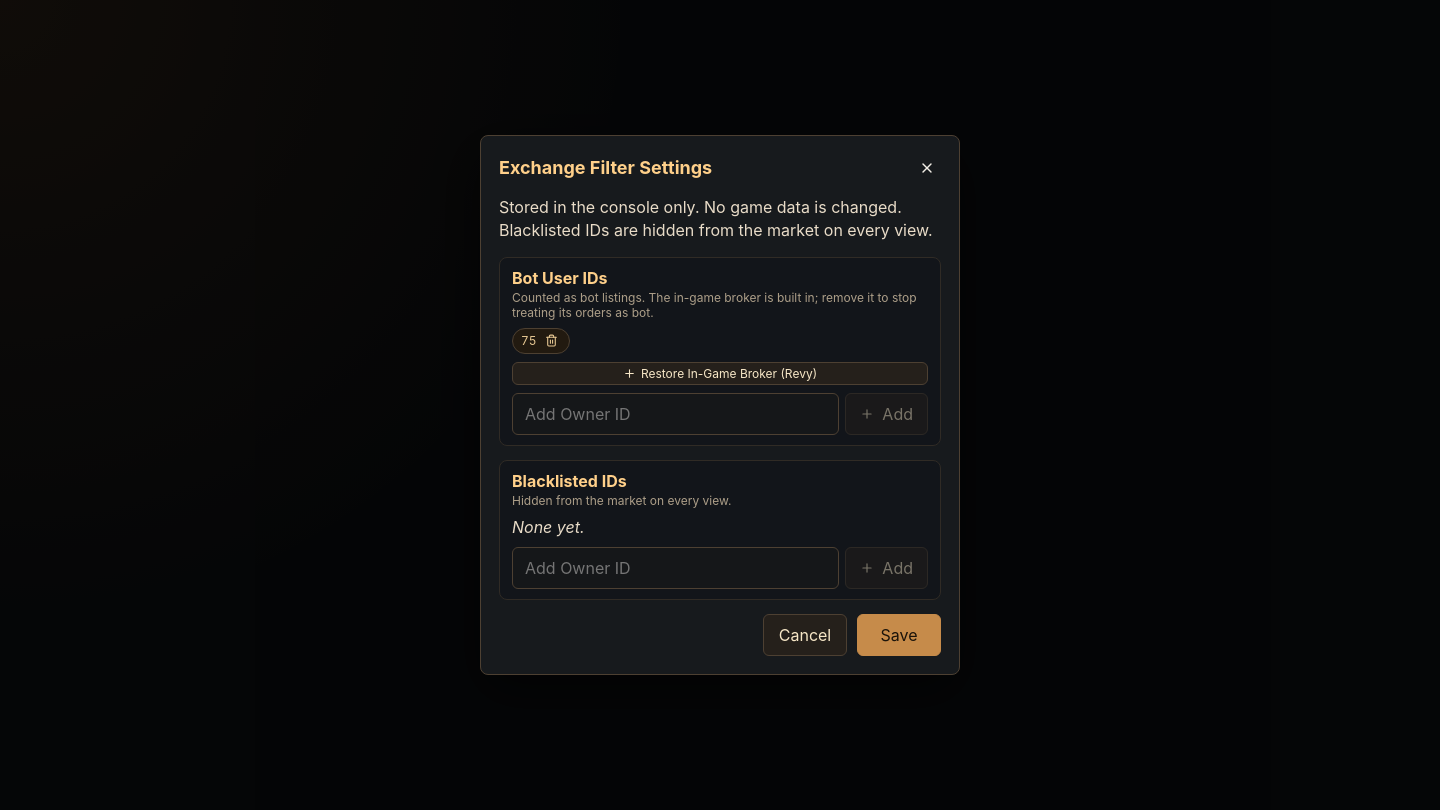
ExchangeConfigOverlay › removes a bot id chip
Check: the text "75" is shown, box [521, 333, 537, 348]
Click the button named "Remove 75": [552, 341] box [543, 332, 561, 350]
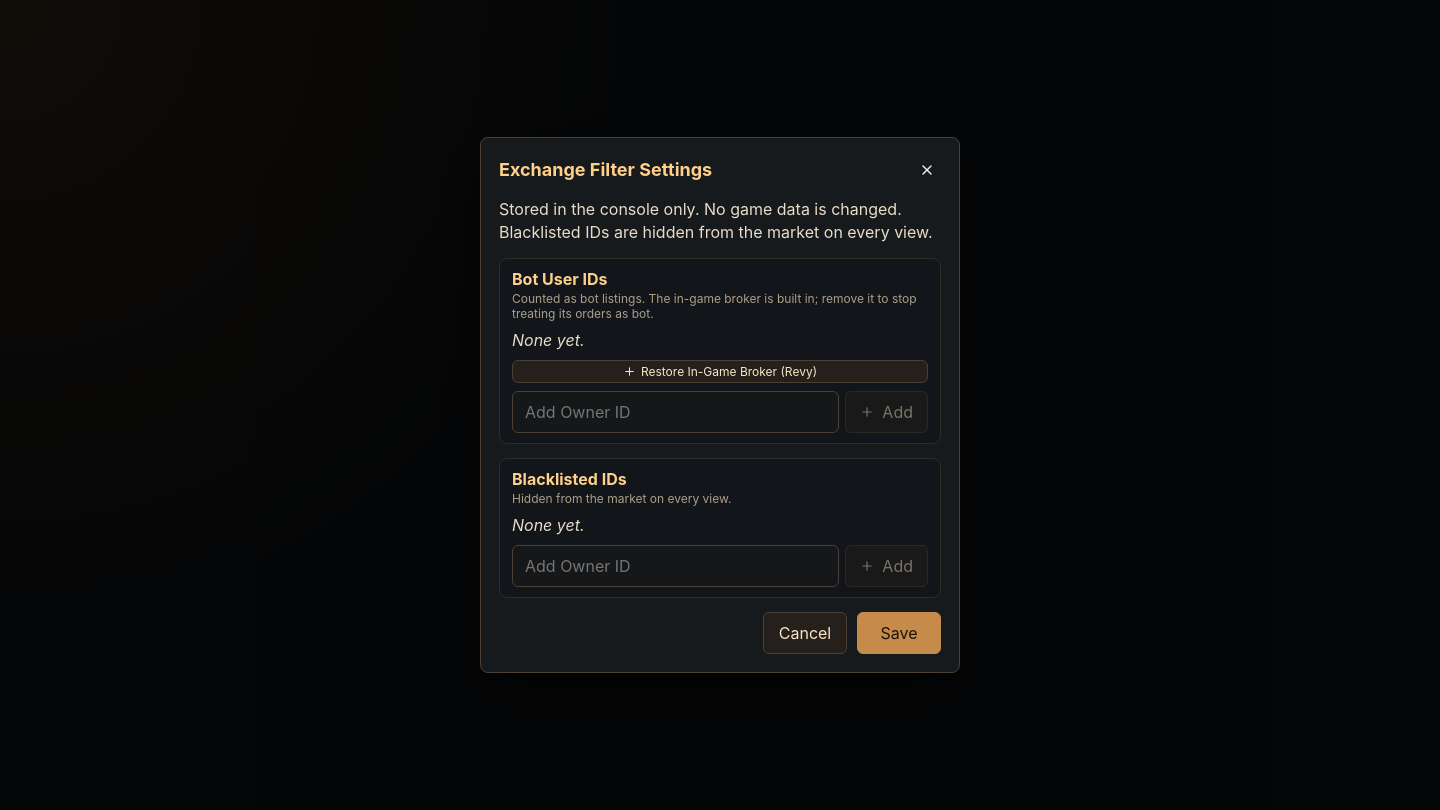
Check: the text "75" is gone
